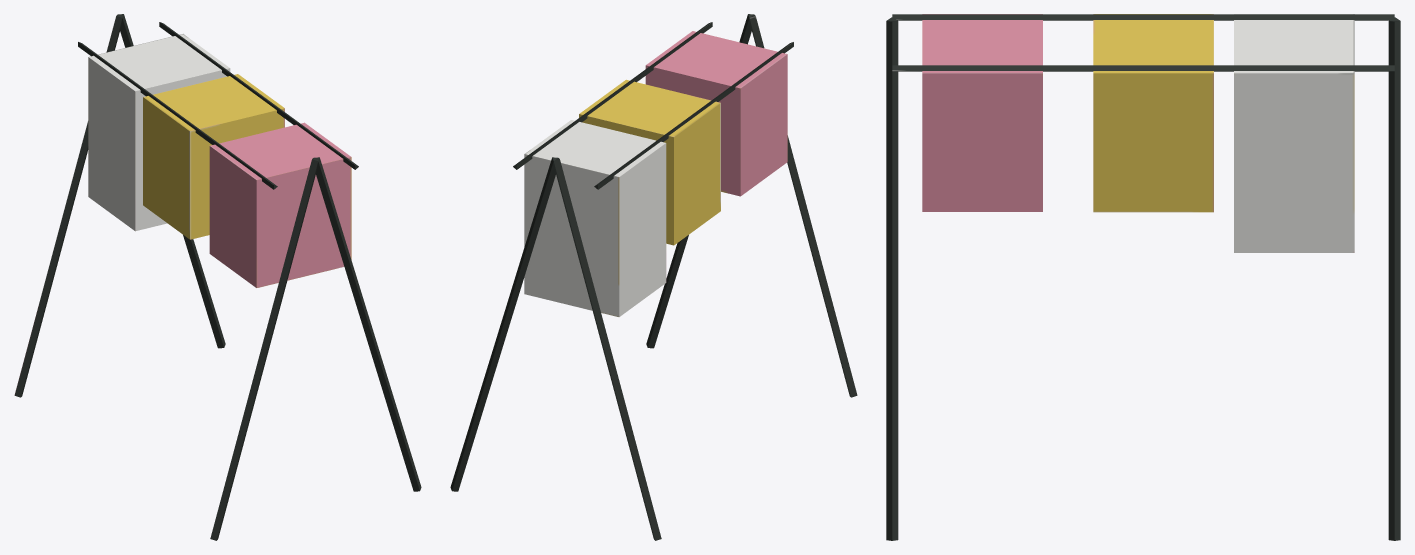
The model's file is susak_2303bdbe.glb.
The picture shows the model from 3 angles, left to right: view 1: azimuth 30°, elevation 25°; view 2: azimuth 150°, elevation 25°; view 3: azimuth 270°, elevation 25°; orthographic projection. The views are drawn at different scales.
Visible parts, largest first — view 1: dum; view 2: dum; view 3: dum.
Boxes of the visible parts, x1=… form: dum: x1=14, y1=14, x2=421, y2=540; dum: x1=450, y1=14, x2=857, y2=540; dum: x1=886, y1=14, x2=1400, y2=540.
Size of the model in its own units: 0.6214 by 1 by 1.02.
Materials: 1 (1 with a texture image).
